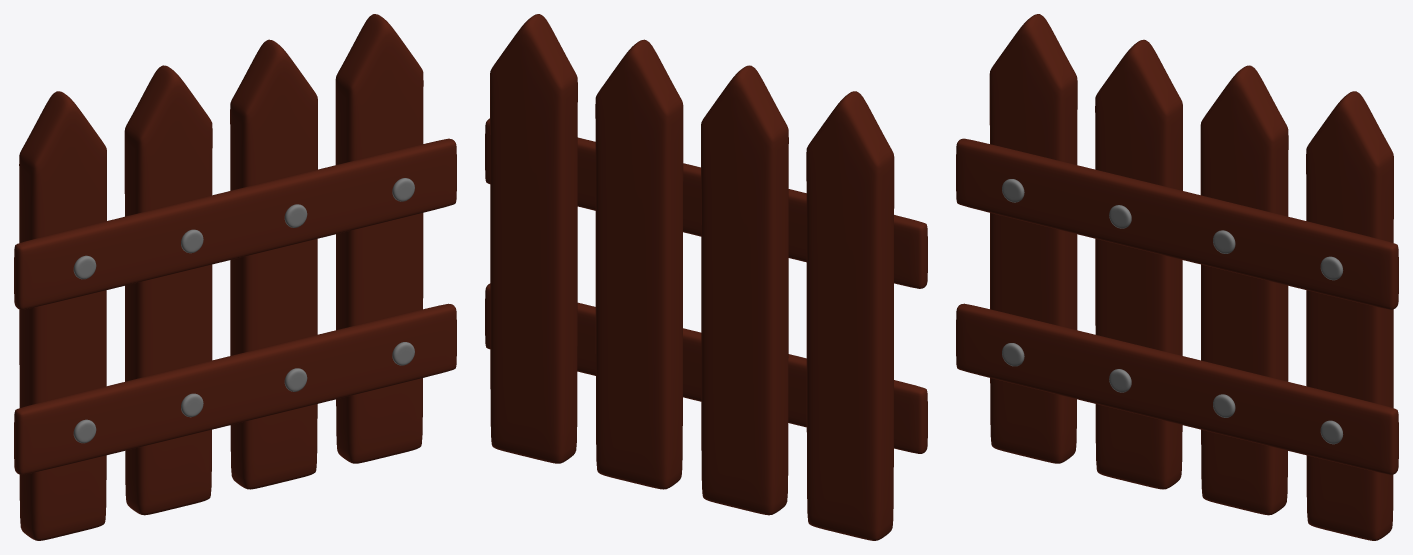
The model's file is Fence_Empty.obj.
The picture shows the model from 3 angles, left to right: view 1: azimuth 30°, elevation 25°; view 2: azimuth 150°, elevation 25°; view 3: azimuth 330°, elevation 25°; orthographic projection.
Parts seen in each view (by area): view 1: Fence_Empty_Post, Fence_Empty_Beam, Fence_Empty_Nails; view 2: Fence_Empty_Post, Fence_Empty_Beam; view 3: Fence_Empty_Post, Fence_Empty_Beam, Fence_Empty_Nails.
Part boxes in pixels (x1,y1,x2,y2): Fence_Empty_Post: (19, 14, 423, 540); Fence_Empty_Beam: (14, 138, 456, 474); Fence_Empty_Nails: (73, 178, 414, 443); Fence_Empty_Post: (490, 14, 894, 540); Fence_Empty_Beam: (485, 118, 927, 453); Fence_Empty_Post: (989, 14, 1393, 540); Fence_Empty_Beam: (956, 138, 1398, 474); Fence_Empty_Nails: (1002, 179, 1343, 444).
Bounding box in the file's own units: 3.91 × 3.71 × 0.5033.
